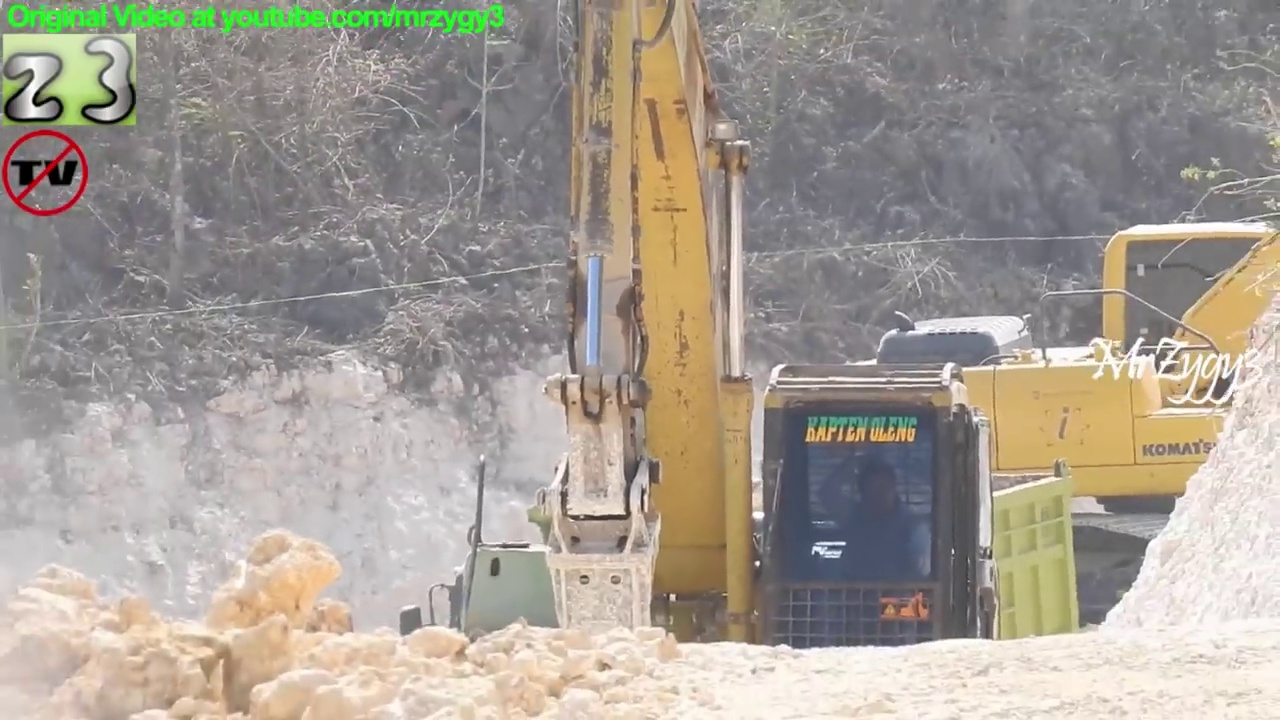excavator: (495, 1, 1016, 720), (755, 186, 1280, 669)
truck: (513, 455, 1089, 720)
